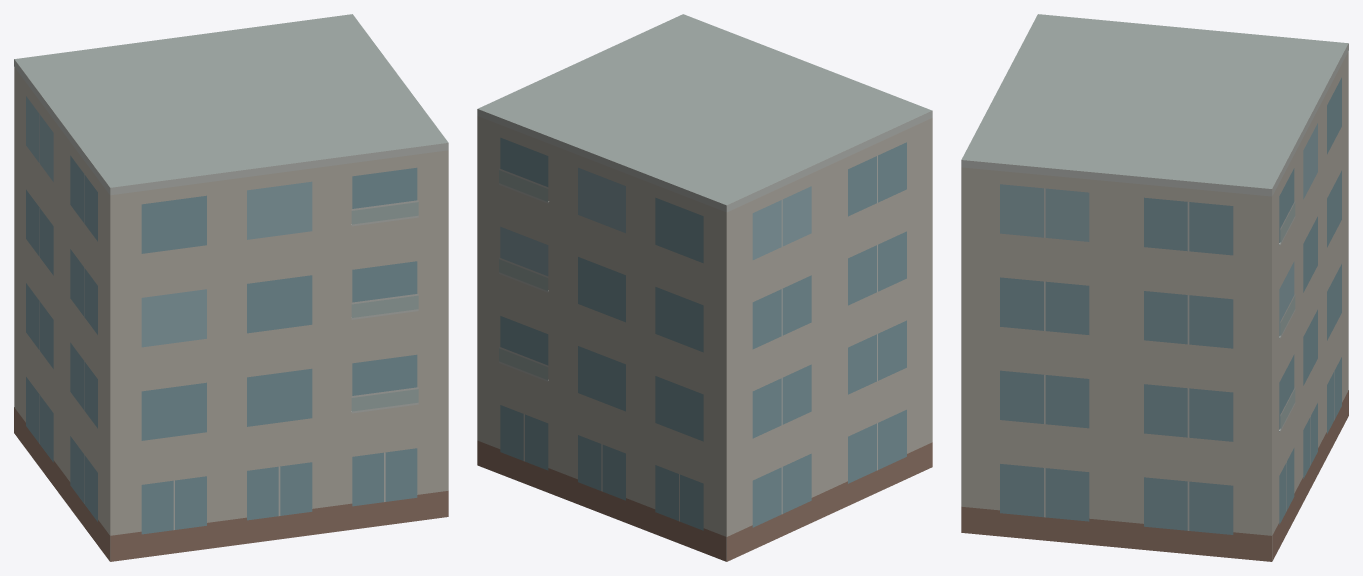
The model's file is residential-b1eb9c16-992a-4565-bca0-9fddd2aae9af.glb.
3 views of the same model, side by side, from view 1: azimuth 30°, elevation 25°; view 2: azimuth 150°, elevation 25°; view 3: azimuth 270°, elevation 25° (orthographic). The views are drawn at different scales.
Parts seen in each view (by area): view 1: residential-b1eb9c16-992a-4565-bca0-9fddd2aae9af.tmp; view 2: residential-b1eb9c16-992a-4565-bca0-9fddd2aae9af.tmp; view 3: residential-b1eb9c16-992a-4565-bca0-9fddd2aae9af.tmp.
Boxes of the visible parts, x1,y1,x2,y2 form: residential-b1eb9c16-992a-4565-bca0-9fddd2aae9af.tmp: (14,14,448,561); residential-b1eb9c16-992a-4565-bca0-9fddd2aae9af.tmp: (477,14,932,561); residential-b1eb9c16-992a-4565-bca0-9fddd2aae9af.tmp: (961,14,1348,561).
Bounding box in the file's own units: 12.3 × 12.2 × 11.5.
